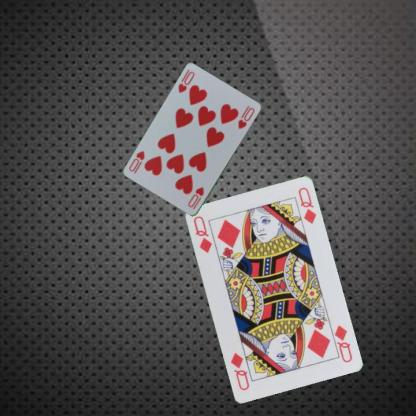10h: (185, 184, 205, 211), (176, 69, 196, 95)
Qd: (326, 322, 353, 364), (190, 213, 213, 254)
